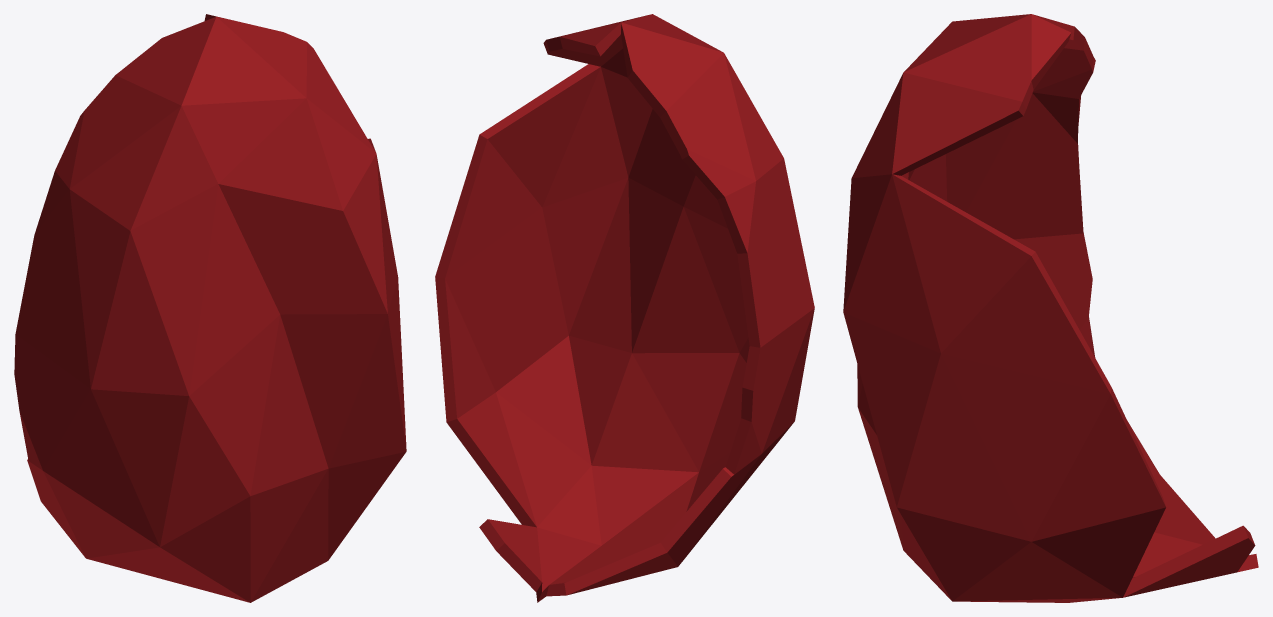
File: dvt_clot2.fbx
3 renders of one model, left to right at view 1: azimuth 30°, elevation 25°; view 2: azimuth 150°, elevation 25°; view 3: azimuth 270°, elevation 25°, orthographic. The views are drawn at different scales.
Parts seen in each view (by area): view 1: clot2; view 2: clot2; view 3: clot2.
Part boxes in pixels (box(x1,y1,x2,y2)): clot2: box(14, 14, 406, 602); clot2: box(435, 14, 814, 602); clot2: box(843, 14, 1258, 602).
Bounding box in the file's own units: 7.21 × 11.52 × 7.39.
